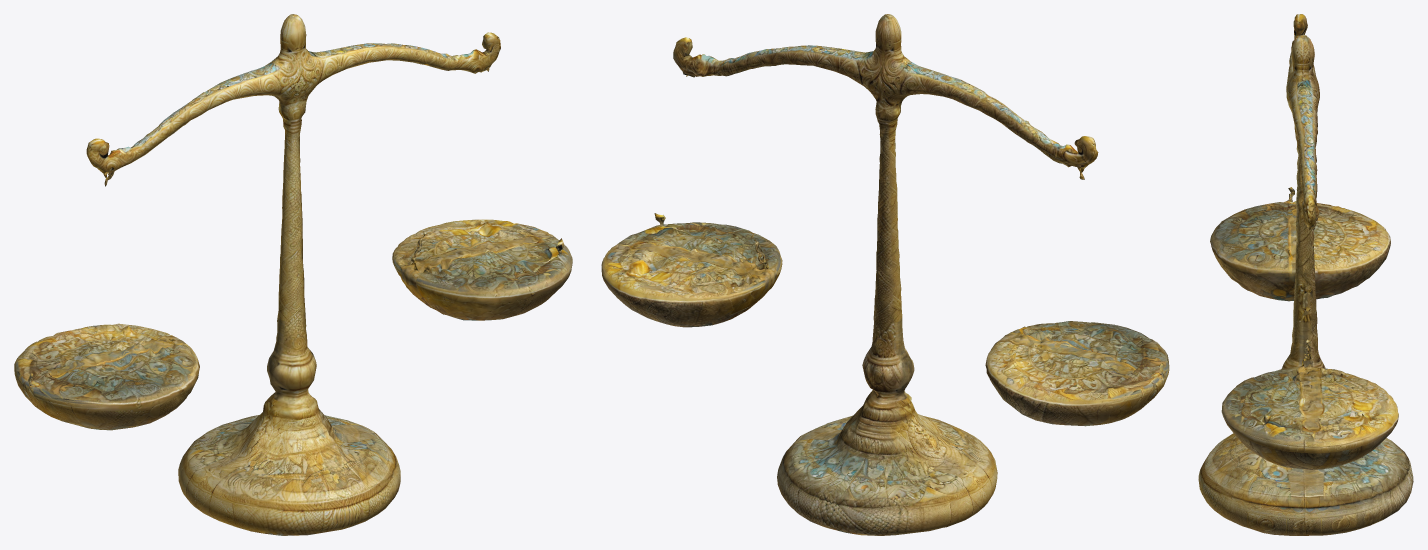
3 views of the same model, side by side, from view 1: azimuth 30°, elevation 25°; view 2: azimuth 150°, elevation 25°; view 3: azimuth 270°, elevation 25° (orthographic). The views are drawn at different scales.
Bounding box in the file's own units: 1.2 × 1.04 × 0.4287.
1 material, 1 textured.
